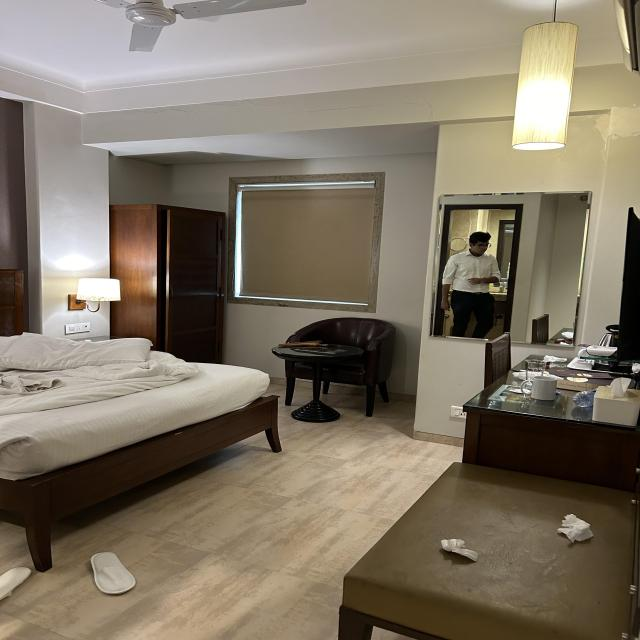mess: (0, 311, 298, 509), (457, 333, 640, 639), (351, 449, 640, 640), (0, 517, 183, 625)
